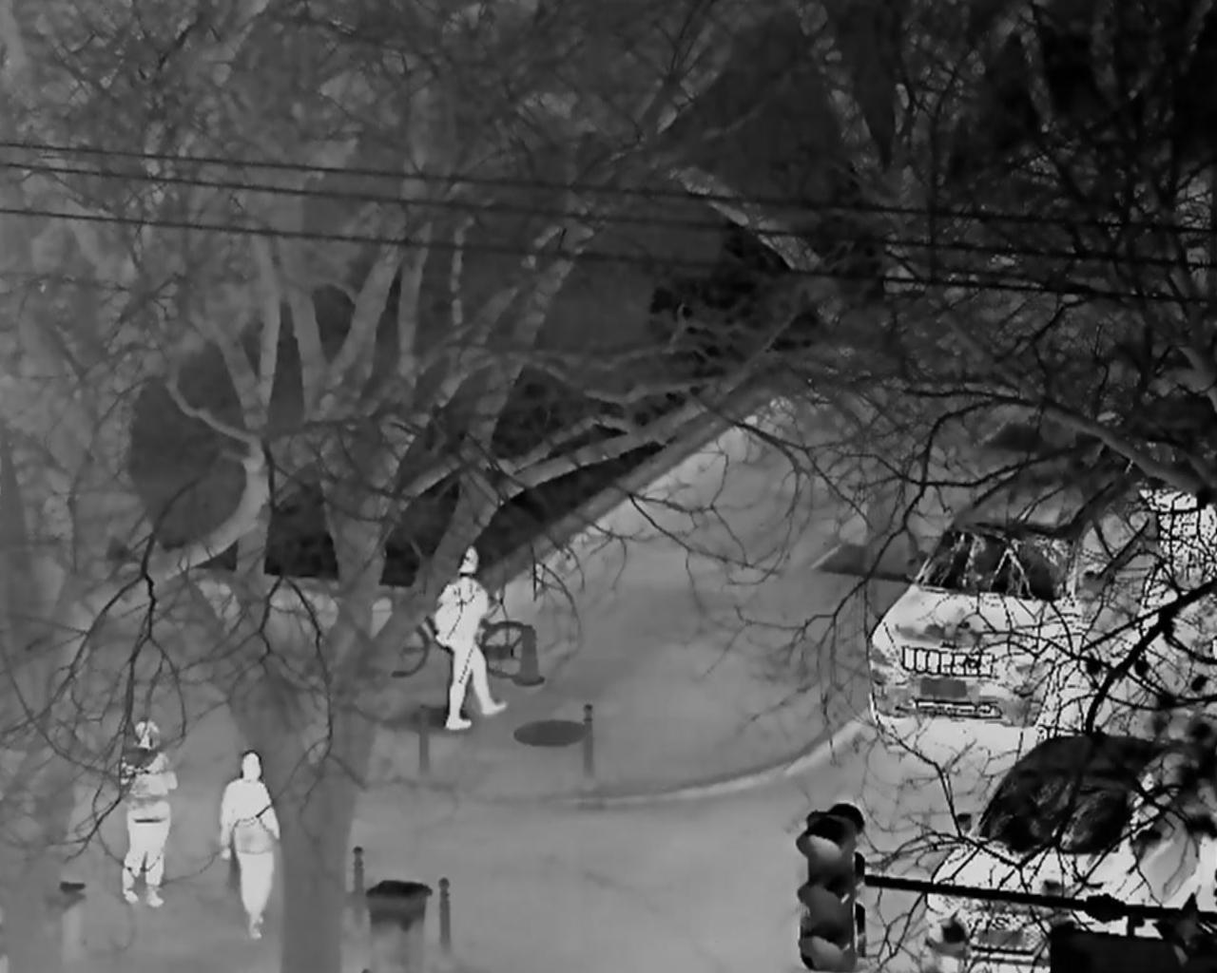person: (432, 544, 510, 730), (219, 751, 280, 940), (121, 715, 177, 908)
